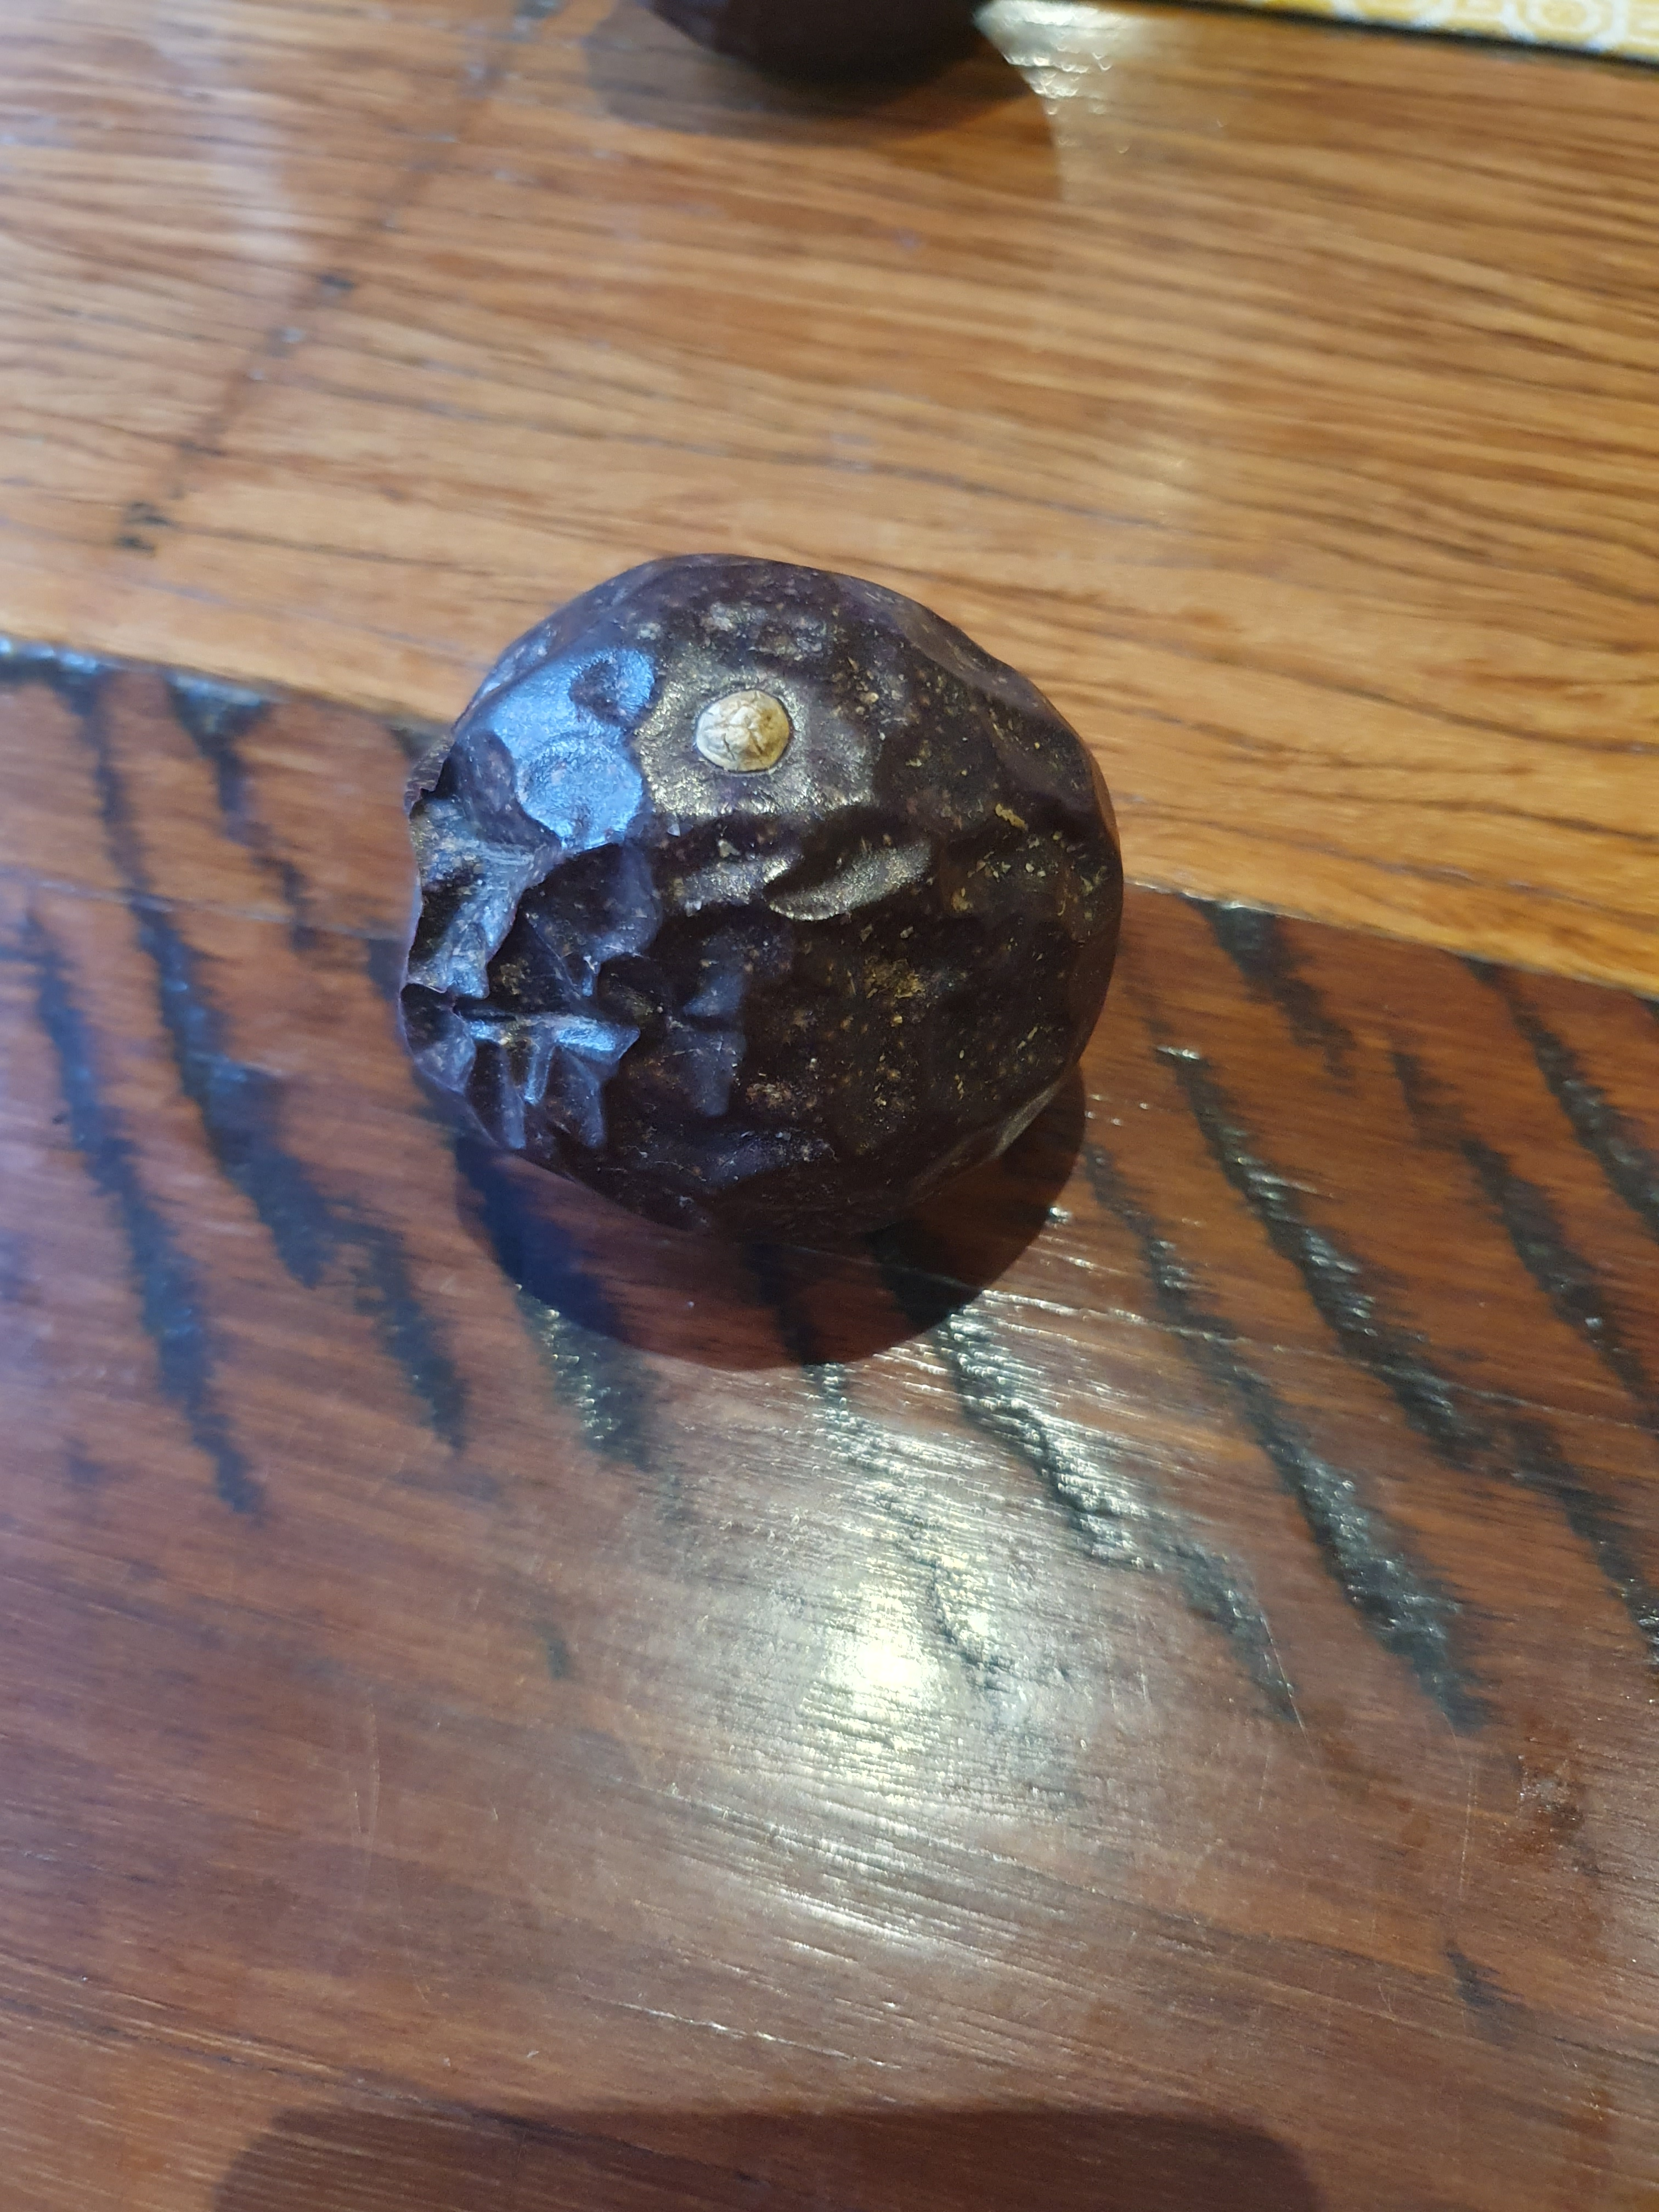passionfruit: (349, 521, 1161, 1261)
